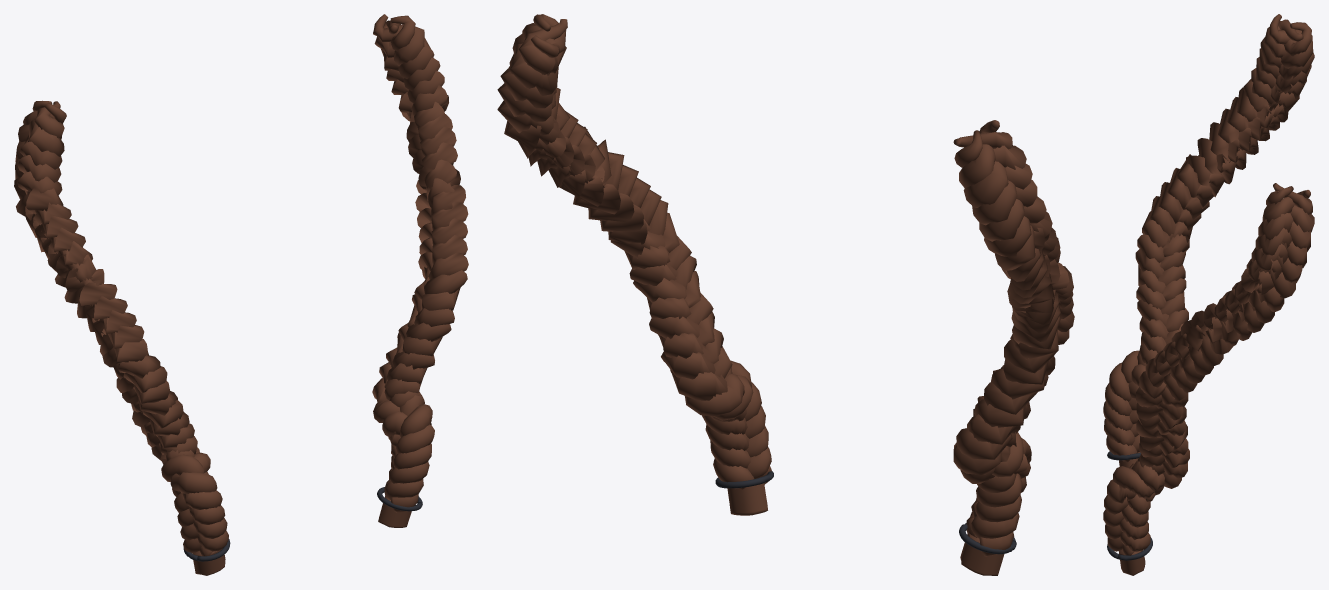
File: Feminine-twin-braids-sweatshirt-lengths251.glb
3 renders of one model, left to right at view 1: azimuth 30°, elevation 25°; view 2: azimuth 150°, elevation 25°; view 3: azimuth 270°, elevation 25°, orthographic. The views are drawn at different scales.
Visible parts, largest first — view 1: 226 hairLengths / Hair / chestnut226, 226 hairLengths / Hair / ties226; view 2: 226 hairLengths / Hair / chestnut226, 226 hairLengths / Hair / ties226; view 3: 226 hairLengths / Hair / chestnut226, 226 hairLengths / Hair / ties226.
Boxes of the visible parts, x1,y1,x2,y2 form: 226 hairLengths / Hair / chestnut226: [14, 14, 468, 575]; 226 hairLengths / Hair / ties226: [183, 487, 422, 561]; 226 hairLengths / Hair / chestnut226: [497, 14, 1074, 575]; 226 hairLengths / Hair / ties226: [715, 471, 1016, 554]; 226 hairLengths / Hair / chestnut226: [1103, 14, 1314, 575]; 226 hairLengths / Hair / ties226: [1107, 451, 1152, 560].
Bounding box in the file's own units: 1.09 × 1.05 × 0.4747.
